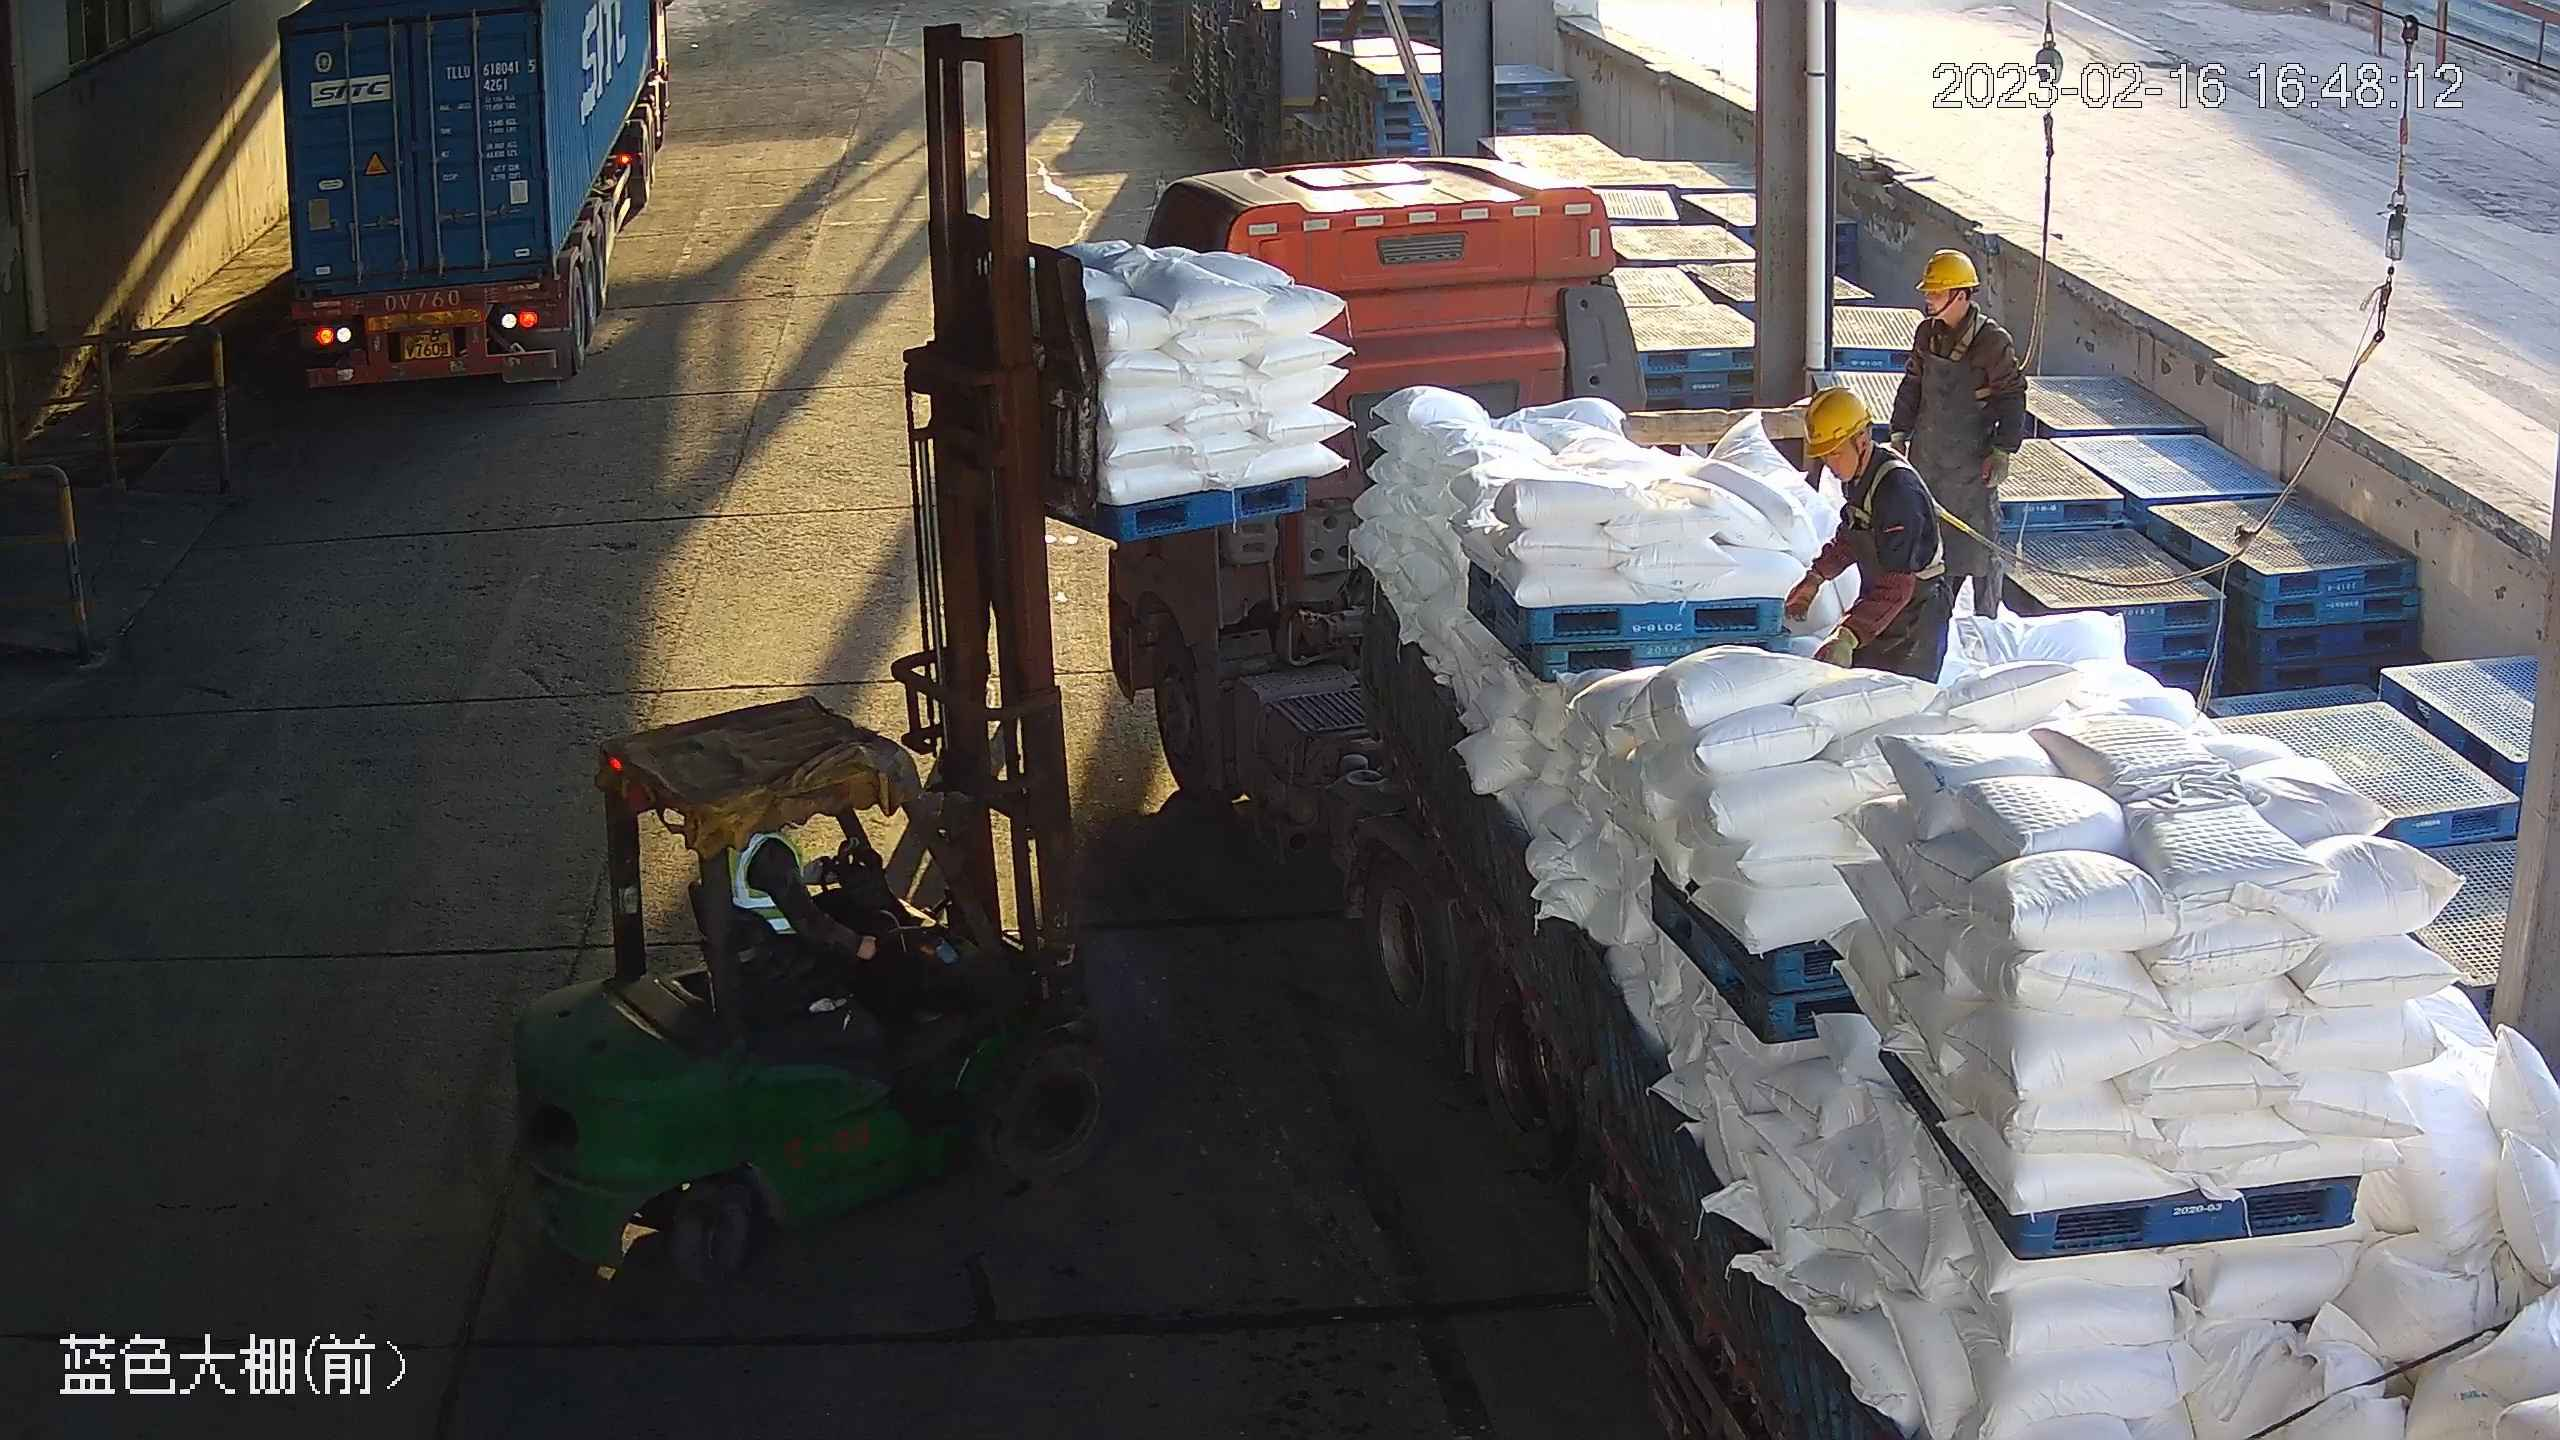belt: (1841, 443, 1962, 579), (1928, 313, 1993, 398)
head: (1804, 384, 1930, 520), (1912, 249, 2016, 368)
helmet: (1804, 385, 1872, 456), (1914, 248, 1980, 292)
people: (1889, 248, 2029, 621), (1784, 385, 1957, 684)
truck: (1105, 157, 2560, 1440), (276, 1, 665, 390)
